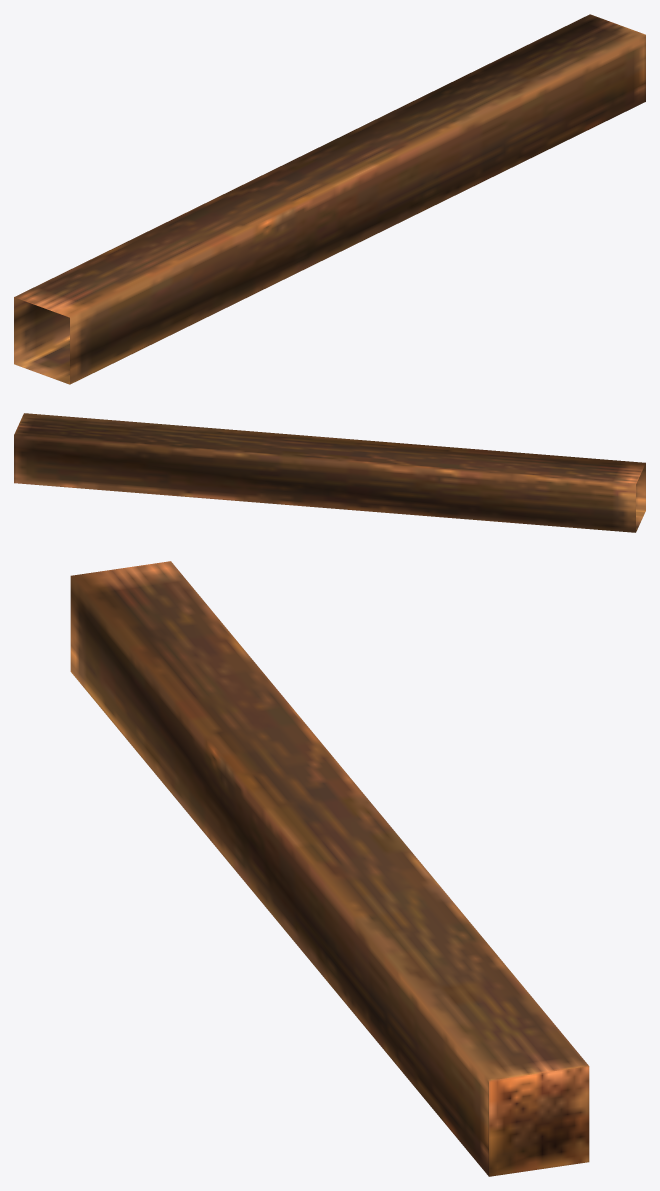
File: SWORDLIGHT20_JAILBRACE49.fbx
The picture shows the model from 3 angles, top to bottom: view 1: azimuth 30°, elevation 25°; view 2: azimuth 150°, elevation 25°; view 3: azimuth 270°, elevation 25°; orthographic projection. The views are drawn at different scales.
Parts seen in each view (by area): view 1: SWORDLIGHT20_JAILBRACE49; view 2: SWORDLIGHT20_JAILBRACE49; view 3: SWORDLIGHT20_JAILBRACE49.
Boxes of the visible parts, x1=… form: SWORDLIGHT20_JAILBRACE49: x1=14, y1=14, x2=645, y2=384; SWORDLIGHT20_JAILBRACE49: x1=14, y1=413, x2=645, y2=532; SWORDLIGHT20_JAILBRACE49: x1=70, y1=561, x2=589, y2=1176.
Bounding box in the file's own units: 46393 × 4000 × 19562.
1 material, 1 textured.
